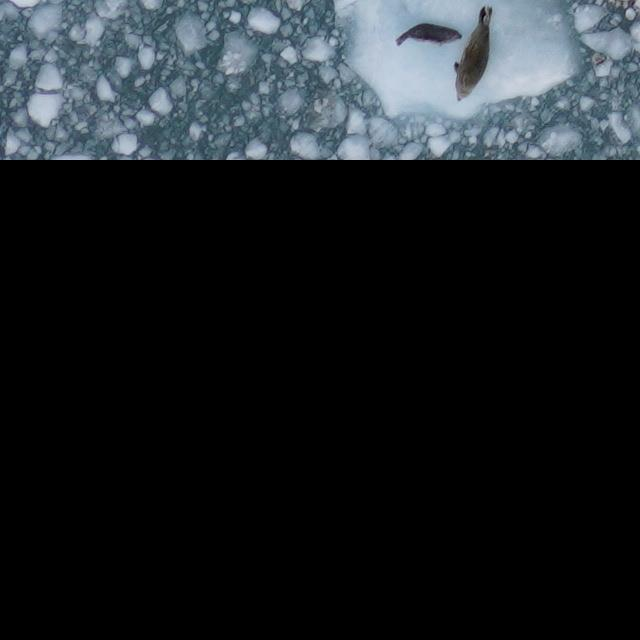seal: (450, 3, 497, 105), (393, 21, 466, 50)
